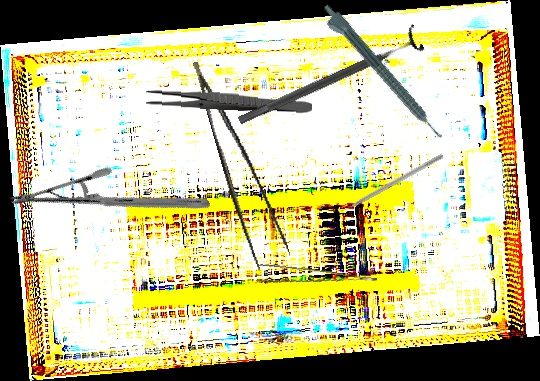Chopper: (331, 148, 445, 217)
Dressing Forceps: (145, 88, 313, 115)
Fixation Ring: (232, 22, 426, 135)
Handpiece: (315, 1, 446, 147)
Needle Holder: (8, 114, 212, 289)
Tissue Forceps: (192, 51, 293, 274), (255, 257, 378, 302)
